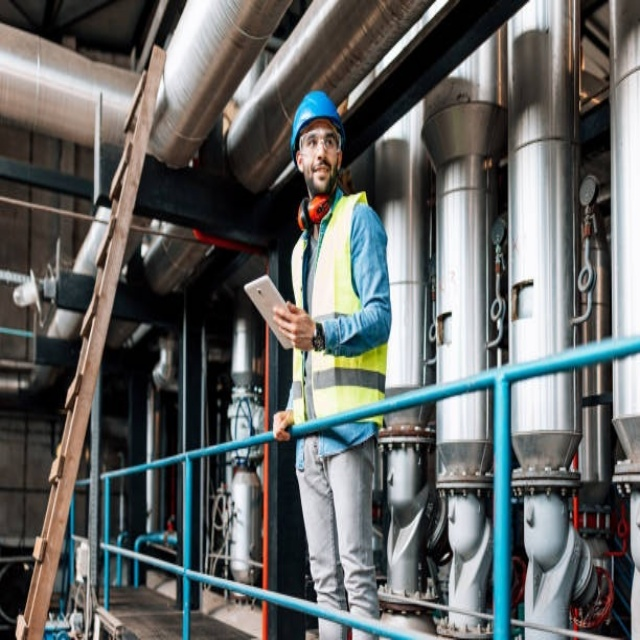Gafas: (300, 133, 341, 153)
Sin_guantes: (274, 301, 314, 351), (273, 407, 295, 441)
Sin_mascara: (306, 160, 335, 187)
